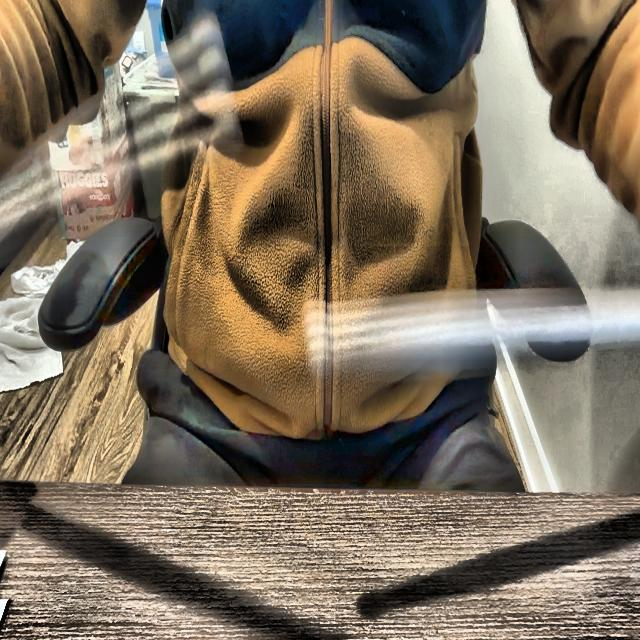Drumstick-Heads: (187, 19, 250, 156), (301, 294, 336, 381)
